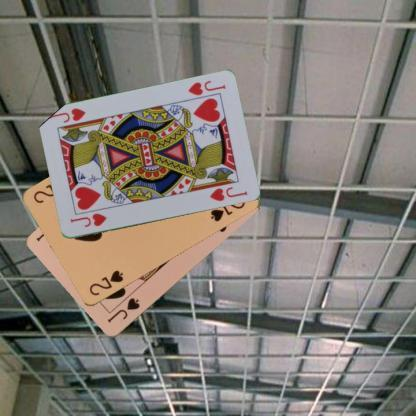2s: (86, 268, 125, 298)
Jh: (184, 78, 226, 97), (68, 211, 108, 229)
Js: (104, 295, 142, 325)
